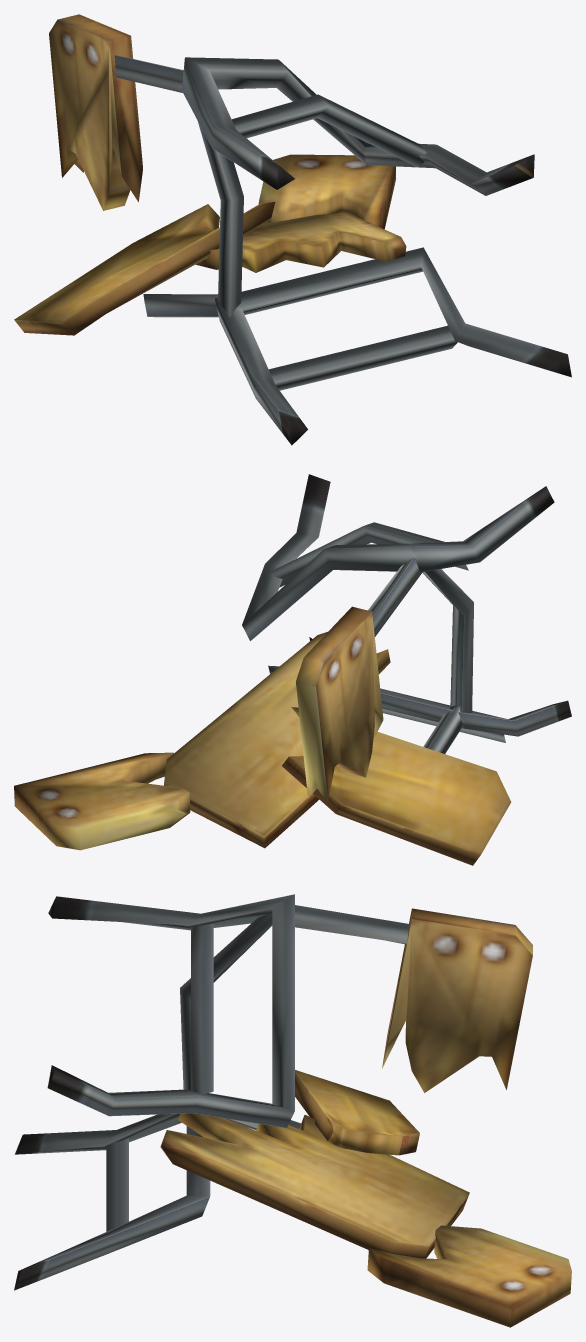
Rendered from c_ESDchairp01.glb.
The picture shows the model from 3 angles, top to bottom: view 1: azimuth 30°, elevation 25°; view 2: azimuth 150°, elevation 25°; view 3: azimuth 270°, elevation 25°; orthographic projection. The views are drawn at different scales.
Parts seen in each view (by area): view 1: c_ESDchairp01; view 2: c_ESDchairp01; view 3: c_ESDchairp01.
Part boxes in pixels (bbox=[...]): c_ESDchairp01: bbox=[14, 14, 571, 445]; c_ESDchairp01: bbox=[14, 474, 571, 865]; c_ESDchairp01: bbox=[14, 894, 571, 1327].
Size of the model in its own units: 1.01 by 0.6149 by 1.11.
1 material, 1 textured.
